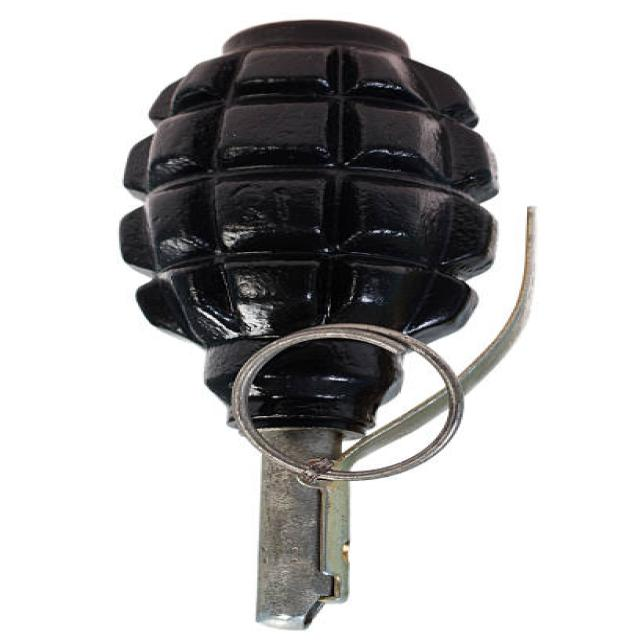grenade: (112, 20, 553, 634)
